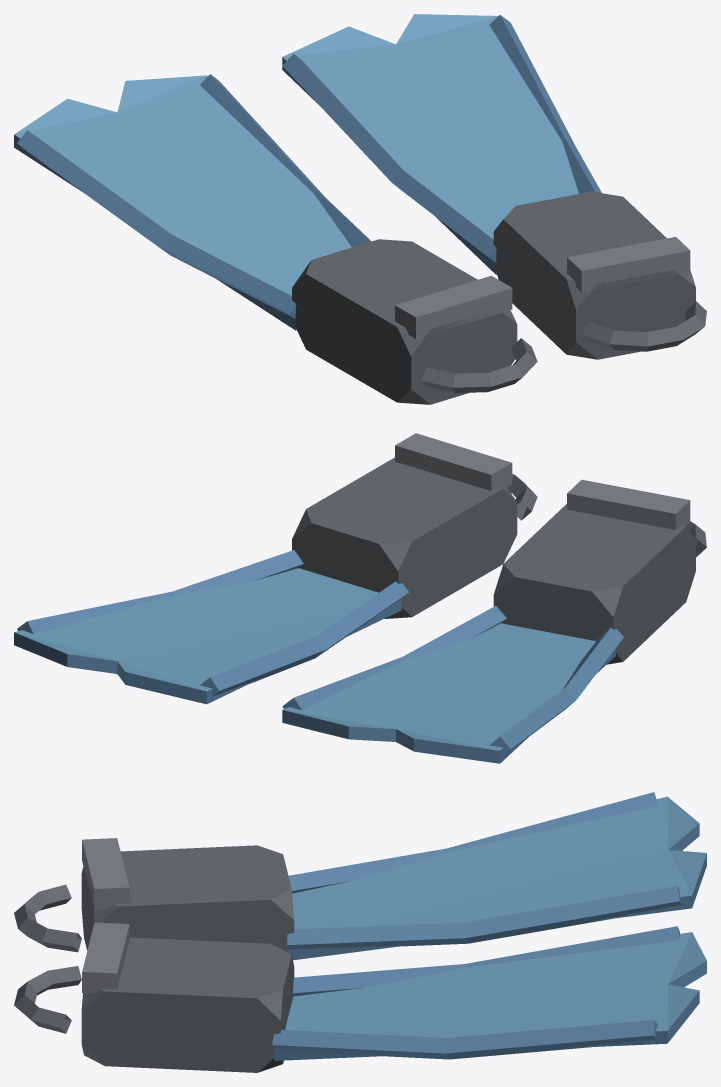
File: gear_flippers.glb
3 views of the same model, one above another, from view 1: azimuth 30°, elevation 25°; view 2: azimuth 150°, elevation 25°; view 3: azimuth 270°, elevation 25° (orthographic).
Visible parts, largest first — view 1: gear_flippers; view 2: gear_flippers; view 3: gear_flippers.
Part boxes in pixels (left/top/right/bottom): gear_flippers: left=14, top=14, right=706, bottom=404; gear_flippers: left=14, top=433, right=706, bottom=763; gear_flippers: left=14, top=792, right=706, bottom=1072.
Size of the model in its own units: 0.4784 by 0.085 by 0.5883.
